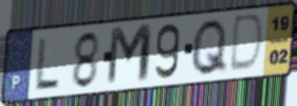8: (71, 27, 102, 92)
9: (154, 22, 182, 80)
D: (227, 12, 266, 75)
L: (32, 35, 62, 91)
M: (105, 22, 155, 89)
Q: (189, 16, 230, 78)
